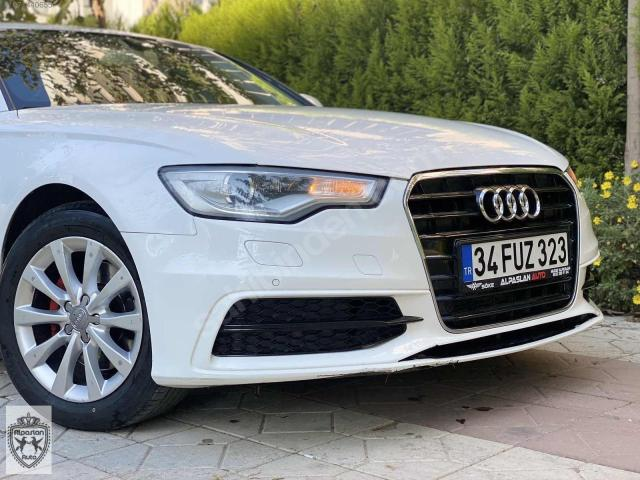plaka: (461, 232, 569, 288)
